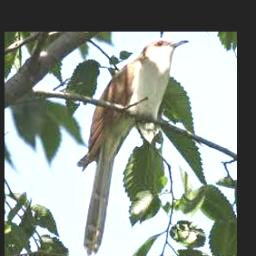Cuckoo: (77, 39, 190, 255)
